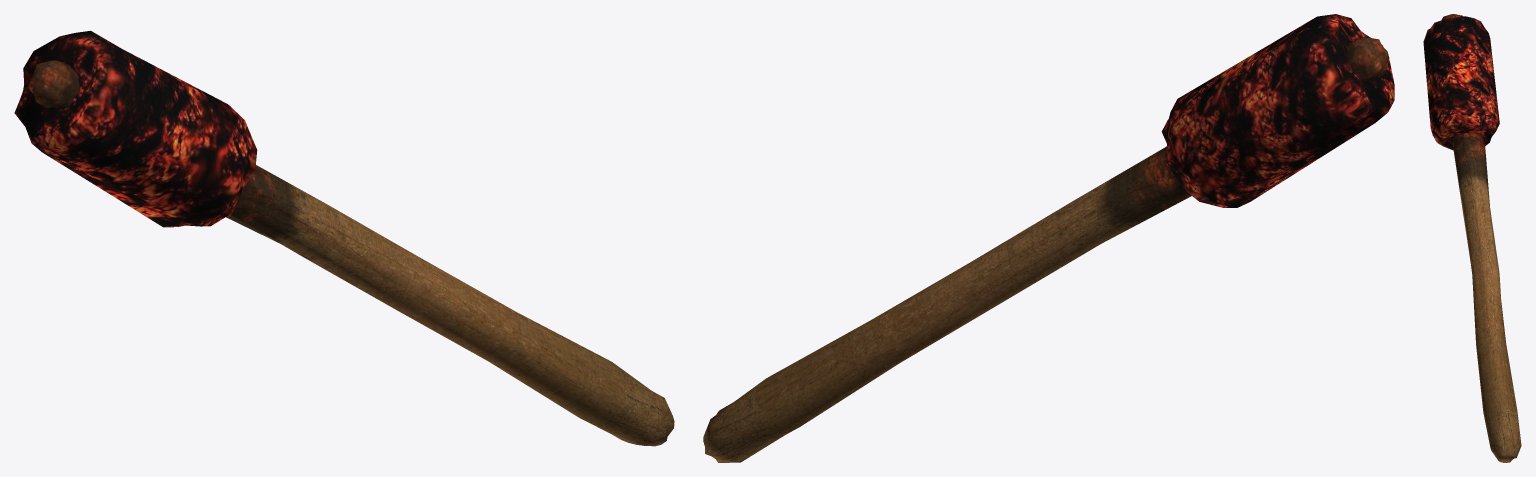
File: torch.glb
The picture shows the model from 3 angles, left to right: view 1: azimuth 30°, elevation 25°; view 2: azimuth 150°, elevation 25°; view 3: azimuth 270°, elevation 25°; orthographic projection. The views are drawn at different scales.
Parts seen in each view (by area): view 1: Cylinder.001; view 2: Cylinder.001; view 3: Cylinder.001.
Part boxes in pixels (x1,y1,x2,y2): Cylinder.001: (14,30,674,446); Cylinder.001: (703,14,1394,462); Cylinder.001: (1423,14,1521,462).
Bounding box in the file's own units: 436 × 357 × 107.
1 material, 1 textured.
